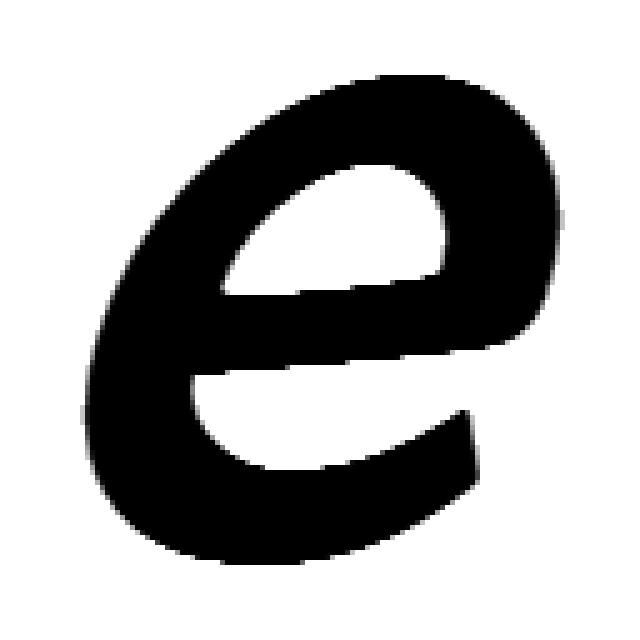E: (85, 75, 565, 565)
